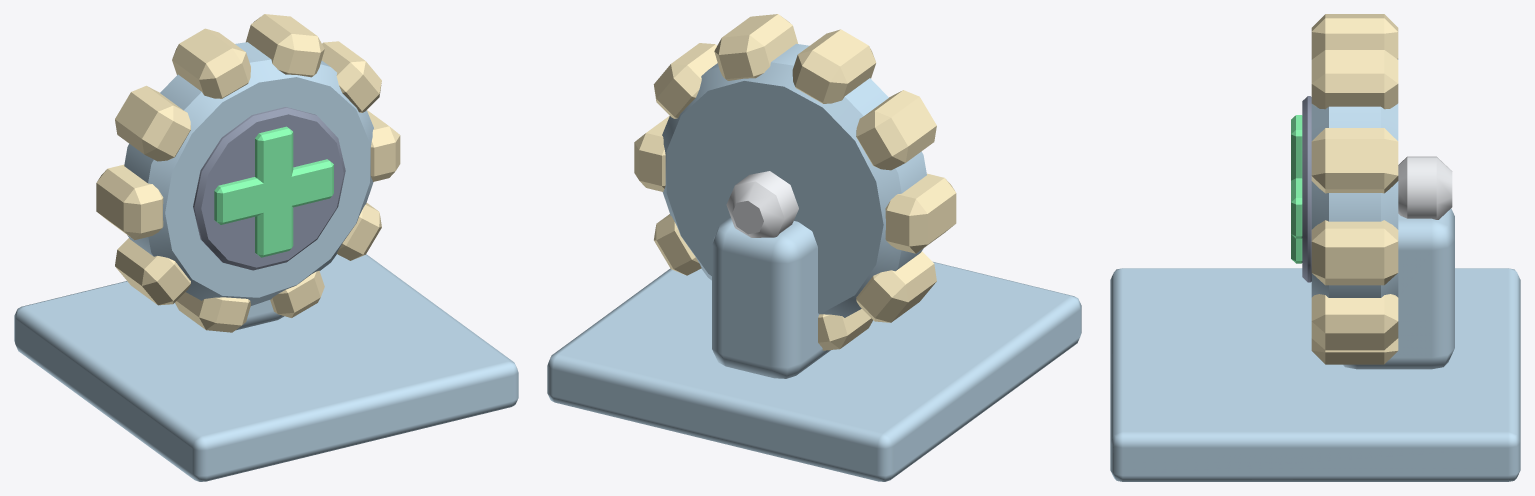
The model's file is R4X_RepairBooster.glb.
3 views of the same model, side by side, from view 1: azimuth 30°, elevation 25°; view 2: azimuth 150°, elevation 25°; view 3: azimuth 270°, elevation 25° (orthographic). The views are drawn at different scales.
Parts seen in each view (by area): view 1: R4X_RepairBooster_Body; view 2: R4X_RepairBooster_Body; view 3: R4X_RepairBooster_Body.
Boxes of the visible parts, x1,y1,x2,y2 form: R4X_RepairBooster_Body: [14, 14, 518, 481]; R4X_RepairBooster_Body: [547, 14, 1081, 481]; R4X_RepairBooster_Body: [1110, 14, 1520, 481].
Size of the model in its own units: 0.52 by 0.5121 by 0.52.
